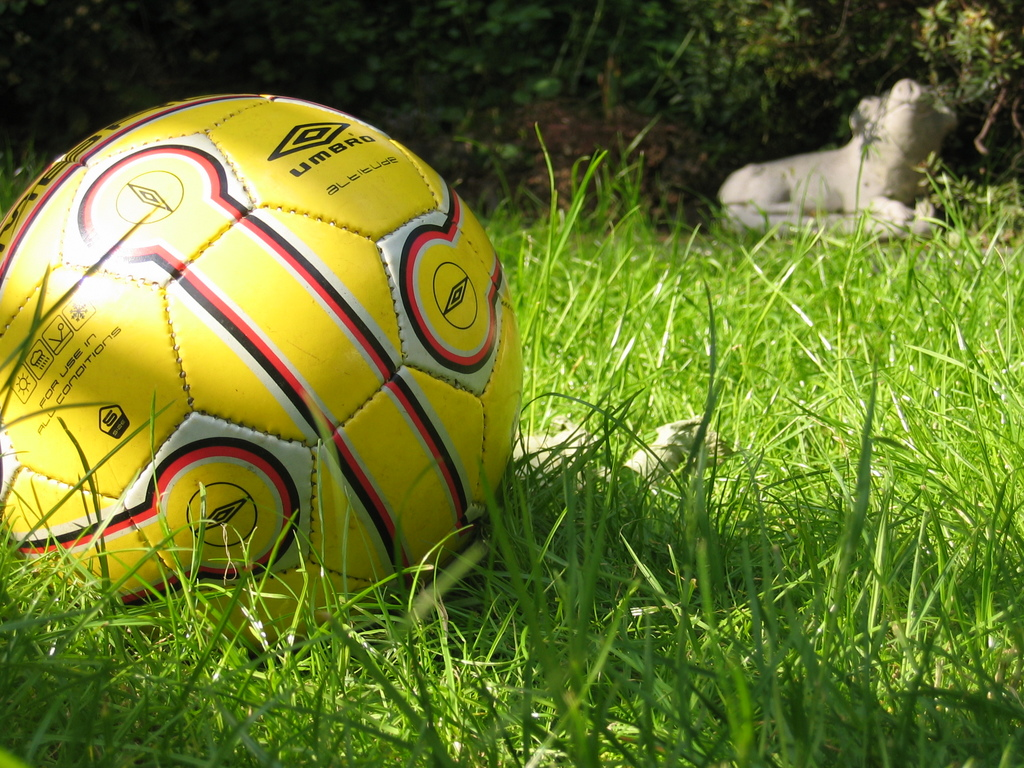Ball: (0, 94, 520, 658)
